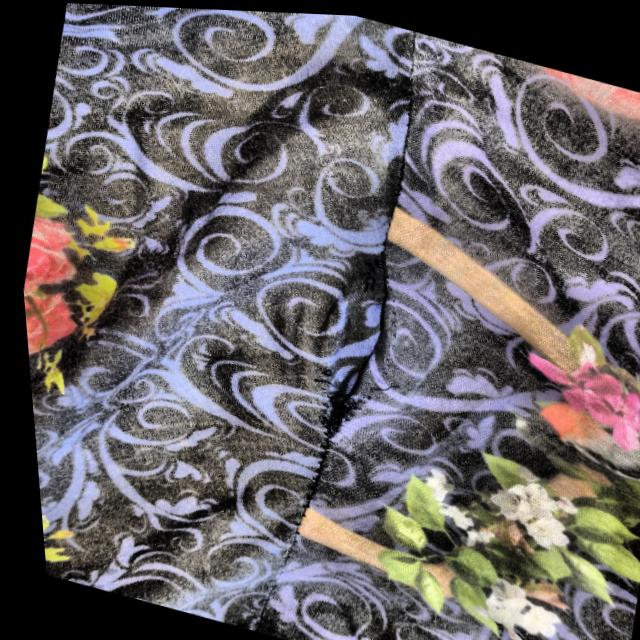seam: (264, 223, 432, 465)
